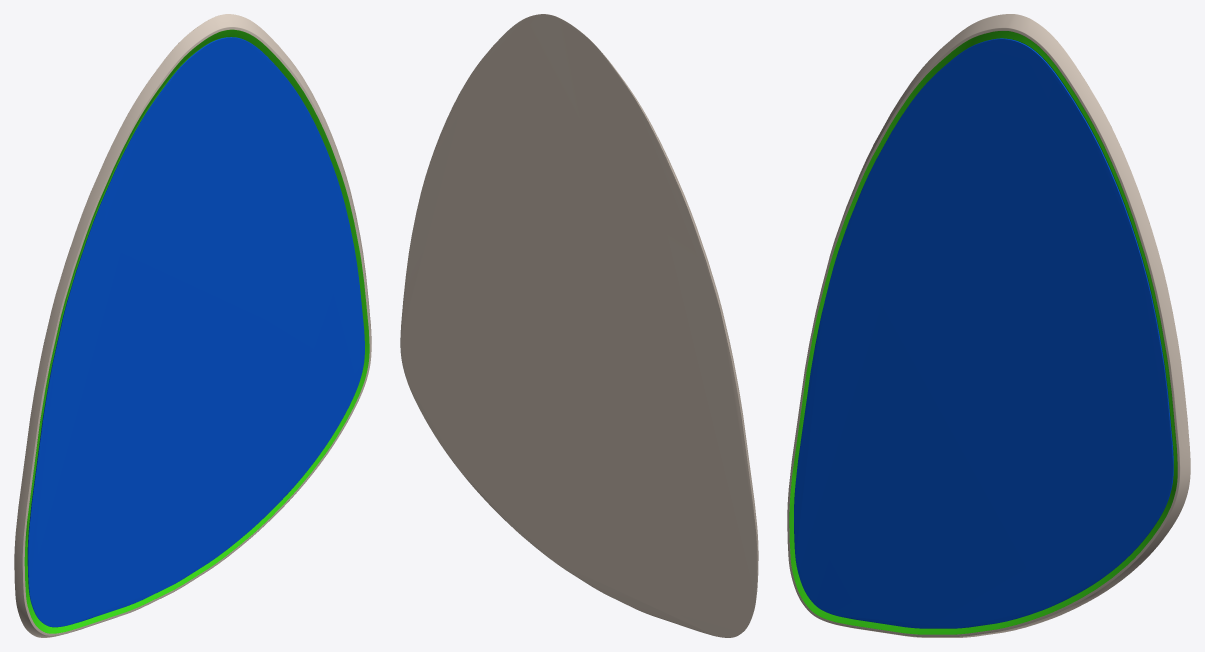
The picture shows the model from 3 angles, left to right: view 1: azimuth 30°, elevation 25°; view 2: azimuth 150°, elevation 25°; view 3: azimuth 330°, elevation 25°; orthographic projection. The views are drawn at different scales.
Parts seen in each view (by area): view 1: mirror, CANVAS; view 2: CANVAS; view 3: mirror, CANVAS.
Boxes of the visible parts, box(x1,y1,x2,y2) form: mirror: box(27, 37, 364, 627); CANVAS: box(14, 14, 371, 637); CANVAS: box(400, 14, 758, 637); mirror: box(794, 38, 1173, 628); CANVAS: box(787, 14, 1190, 637).
Bounding box in the file's own units: 1.38 × 2.14 × 0.0319.
